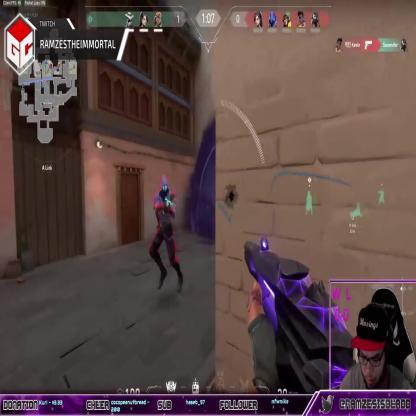enemy: (149, 174, 183, 290)
enemy_head: (159, 176, 169, 198)
